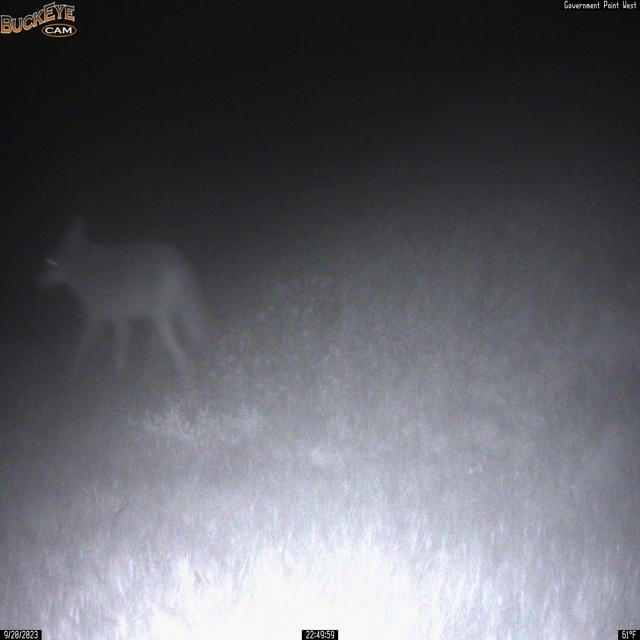coyote: (34, 213, 211, 401)
